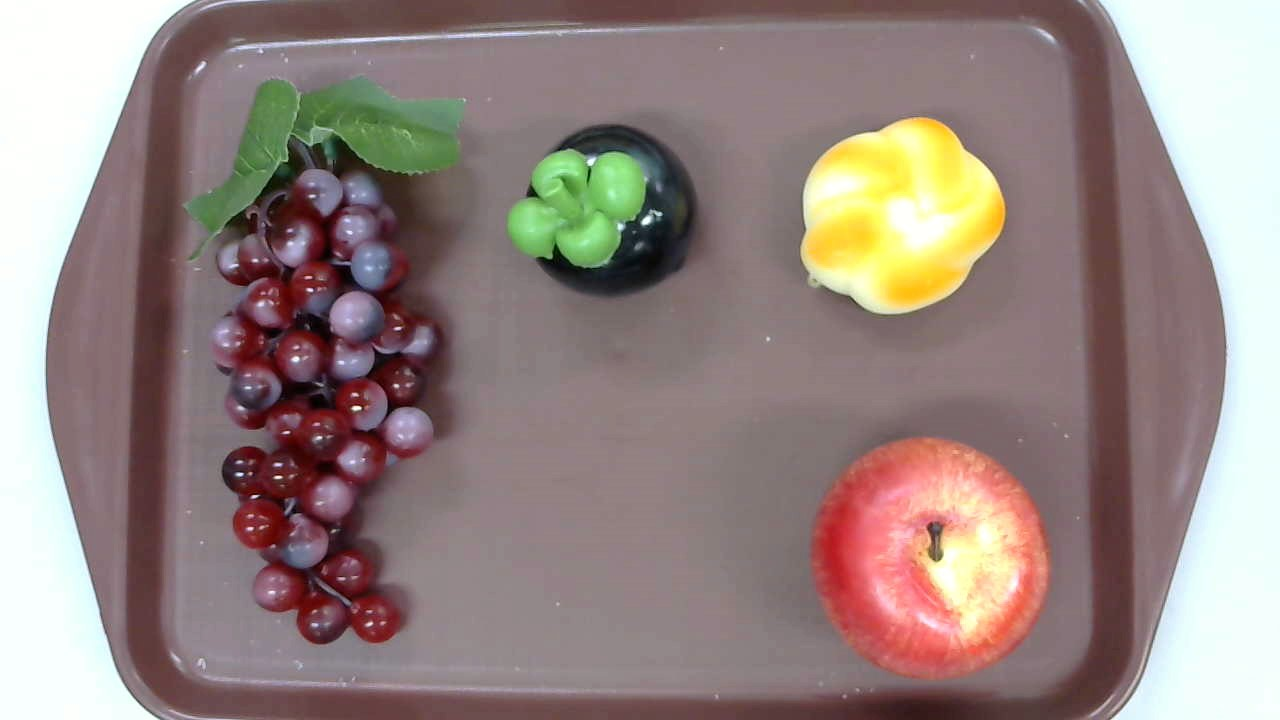grape: (181, 73, 466, 644)
mangosteen: (508, 123, 697, 301)
red apple: (810, 436, 1049, 681)
twist bread: (800, 115, 1006, 317)
